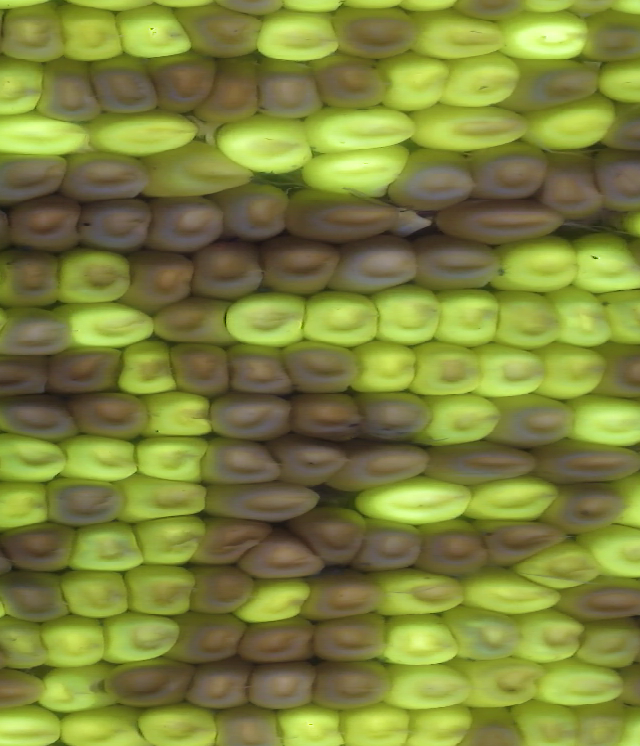fluorescent: (133, 138, 258, 204), (207, 109, 320, 178), (405, 98, 529, 156), (299, 140, 411, 203), (83, 102, 204, 160), (515, 89, 620, 155), (354, 471, 477, 526), (405, 5, 514, 65), (296, 99, 424, 150), (456, 559, 565, 618), (434, 46, 526, 112), (369, 564, 475, 621), (296, 285, 387, 351), (378, 658, 483, 714), (425, 282, 509, 350), (465, 472, 567, 528), (112, 471, 216, 525), (494, 6, 592, 63), (223, 287, 311, 350), (485, 233, 584, 289), (461, 339, 550, 401), (49, 242, 135, 306), (374, 50, 458, 115), (407, 334, 491, 399), (528, 339, 612, 403), (521, 534, 609, 595), (486, 286, 567, 352), (534, 653, 633, 707), (416, 391, 508, 449), (370, 279, 447, 348), (253, 5, 343, 64), (563, 227, 640, 295), (61, 298, 156, 353), (374, 611, 465, 668), (100, 607, 186, 667), (55, 697, 158, 746), (111, 3, 198, 61), (55, 429, 142, 487), (0, 107, 97, 159), (465, 651, 549, 711), (53, 563, 135, 624), (35, 607, 114, 670), (342, 337, 422, 399), (134, 509, 214, 571), (445, 603, 525, 665), (66, 517, 146, 578), (0, 1, 72, 68), (510, 603, 588, 664), (52, 1, 128, 63), (41, 659, 119, 719), (135, 385, 217, 442), (131, 429, 211, 487), (233, 572, 315, 628), (123, 559, 198, 620), (545, 283, 614, 349), (116, 334, 182, 402), (132, 698, 223, 746), (573, 615, 640, 677), (504, 693, 582, 746), (566, 390, 640, 445), (0, 428, 75, 482), (339, 696, 420, 746), (576, 519, 640, 581), (566, 690, 636, 746), (401, 697, 479, 746), (272, 701, 353, 746), (0, 695, 70, 746), (0, 611, 55, 672), (0, 51, 46, 120), (0, 479, 55, 536), (588, 49, 640, 106), (600, 284, 640, 348), (605, 464, 640, 533), (610, 697, 640, 746)
nonfluorescent: (322, 225, 426, 297), (281, 185, 404, 245), (430, 195, 569, 246), (423, 437, 541, 495), (323, 438, 435, 496), (537, 141, 614, 225), (117, 245, 204, 319), (409, 227, 504, 294), (473, 512, 577, 572), (169, 1, 268, 64), (385, 145, 482, 209), (503, 56, 604, 117), (200, 475, 328, 523), (55, 145, 155, 206), (465, 138, 555, 205), (191, 49, 270, 125), (145, 191, 233, 259), (286, 503, 373, 571), (256, 234, 348, 298), (275, 336, 367, 399), (538, 480, 634, 540), (295, 567, 393, 625), (529, 437, 640, 488), (325, 3, 422, 61), (202, 385, 299, 443), (84, 50, 165, 119), (483, 393, 581, 450), (197, 431, 290, 491), (234, 526, 330, 584), (72, 194, 157, 259), (63, 385, 158, 443), (186, 513, 277, 573), (98, 656, 197, 711), (265, 429, 355, 489), (255, 54, 334, 122), (144, 49, 225, 115), (187, 239, 268, 305), (306, 654, 395, 714), (4, 189, 85, 254), (166, 608, 253, 668), (144, 293, 237, 349), (0, 388, 84, 448), (309, 607, 393, 667), (35, 56, 106, 126), (307, 53, 392, 111), (411, 515, 493, 575), (0, 517, 81, 577), (347, 514, 428, 574), (215, 180, 292, 243), (45, 475, 133, 530), (352, 389, 436, 446), (235, 611, 319, 668), (222, 337, 296, 401), (283, 387, 366, 443), (0, 242, 67, 311), (44, 340, 125, 397), (164, 338, 235, 402), (179, 561, 260, 616), (0, 149, 74, 209), (0, 566, 72, 627), (0, 302, 75, 360), (555, 572, 640, 623), (242, 659, 320, 714), (183, 656, 254, 713), (575, 7, 640, 66), (589, 141, 640, 216), (206, 703, 290, 746), (595, 95, 640, 158), (595, 340, 640, 401), (0, 350, 53, 401), (0, 667, 55, 716)
